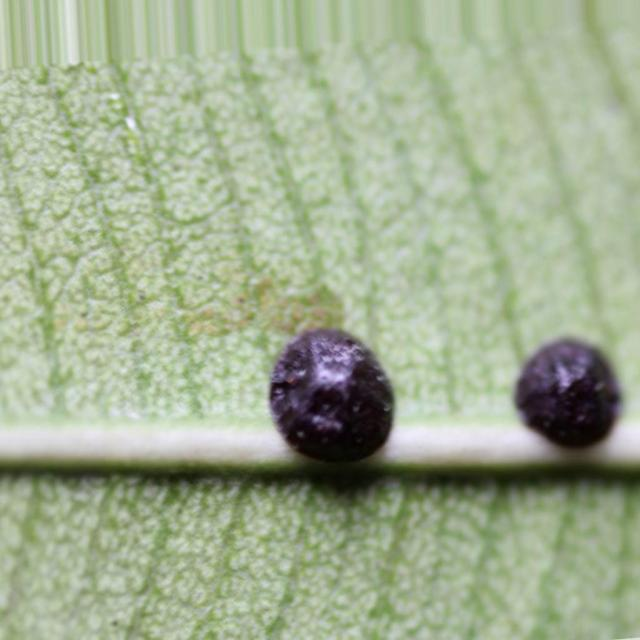Black Scale: (269, 328, 393, 462), (514, 339, 621, 448)
